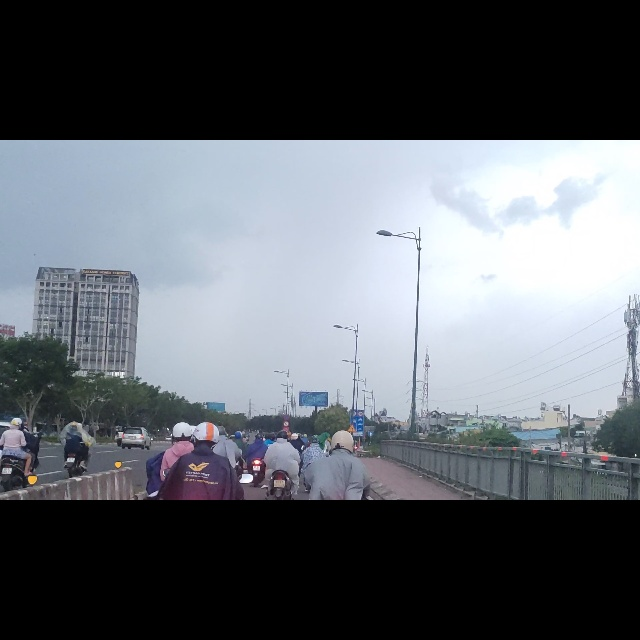bien_nguy_hiem: (348, 505, 356, 520), (357, 482, 363, 492)
